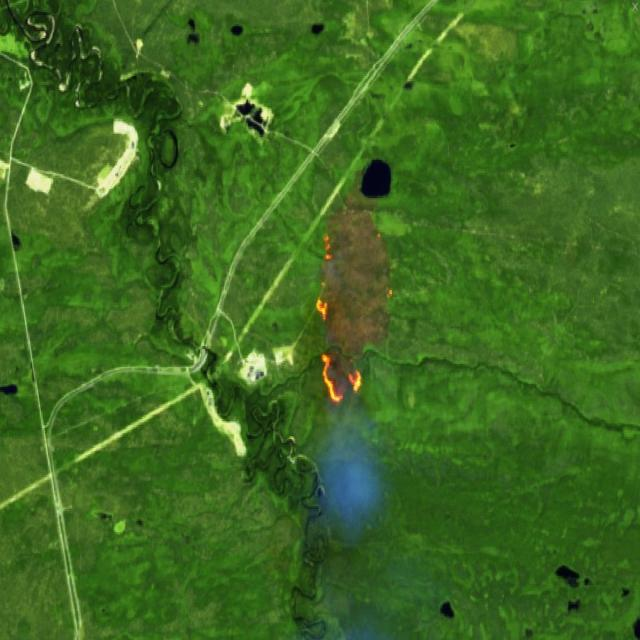fire: (310, 225, 368, 405)
